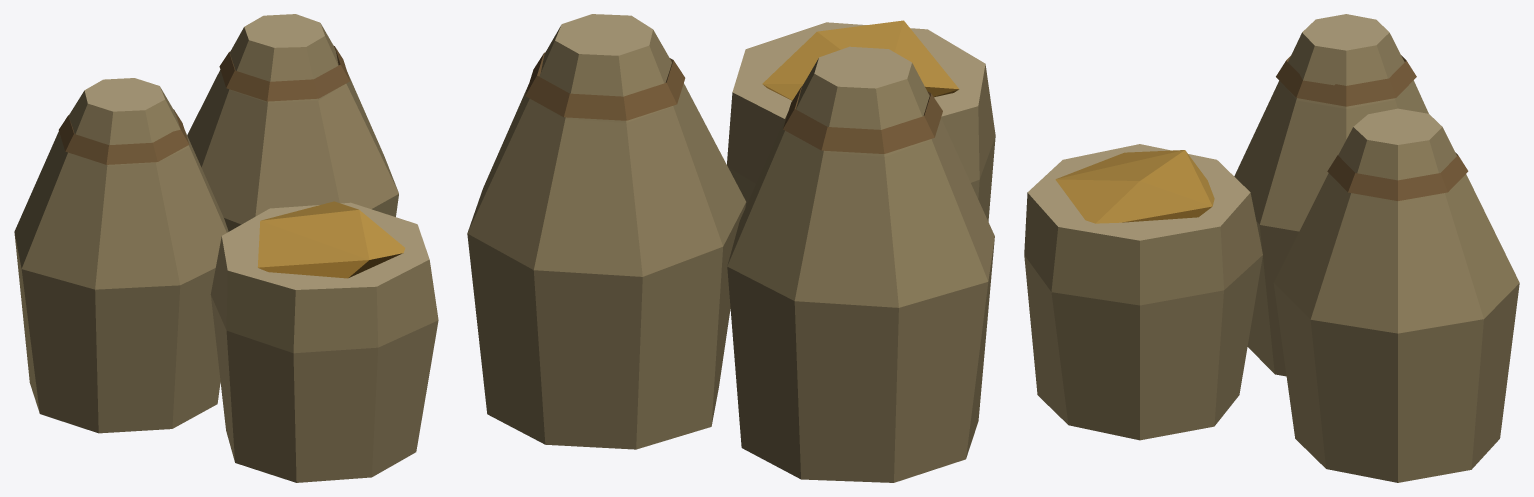
Rendered from sacks.glb.
The picture shows the model from 3 angles, left to right: view 1: azimuth 30°, elevation 25°; view 2: azimuth 150°, elevation 25°; view 3: azimuth 270°, elevation 25°; orthographic projection. The views are drawn at different scales.
Visible parts, largest first — view 1: base; view 2: base; view 3: base.
Part boxes in pixels (x1=…): base: x1=14, y1=14, x2=438, y2=482; base: x1=467, y1=14, x2=995, y2=482; base: x1=1024, y1=14, x2=1519, y2=482.
Bounding box in the file's own units: 0.2715 × 0.2 × 0.2881.
